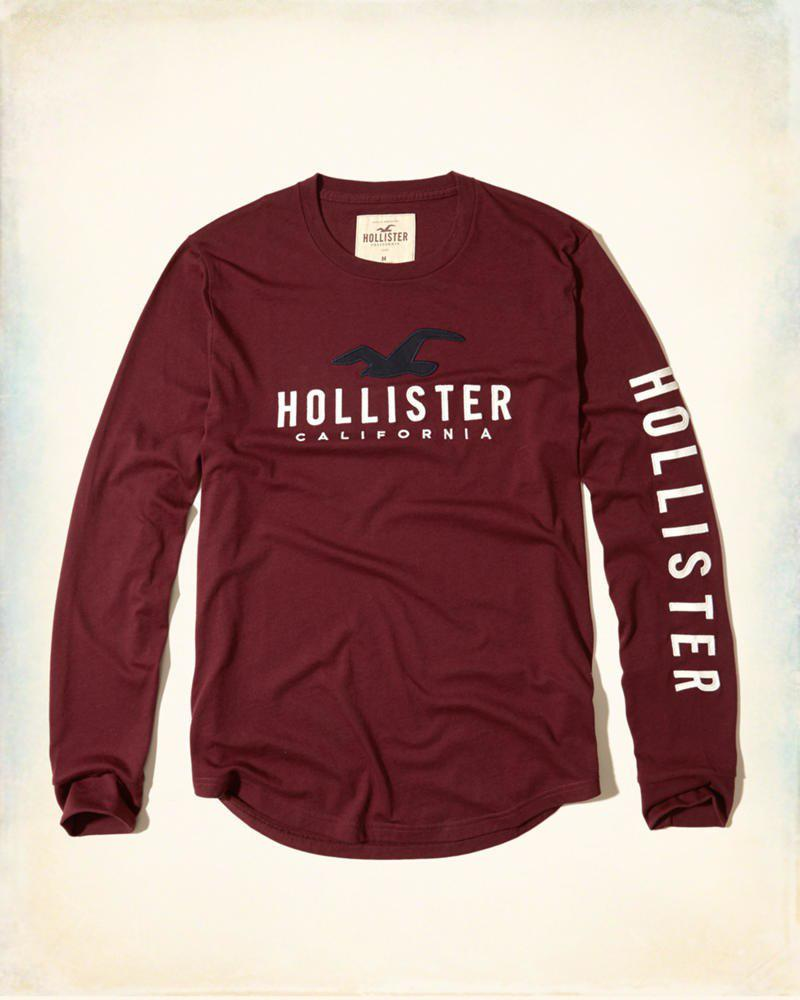teeshirt: (9, 151, 771, 893)
